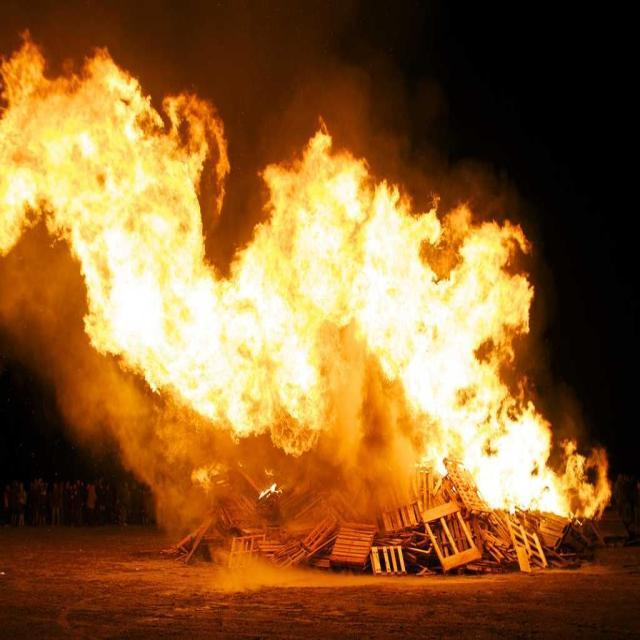Fire: (0, 86, 152, 192), (91, 228, 205, 358), (227, 276, 319, 425), (388, 270, 512, 372), (261, 187, 419, 267), (452, 381, 554, 464)
